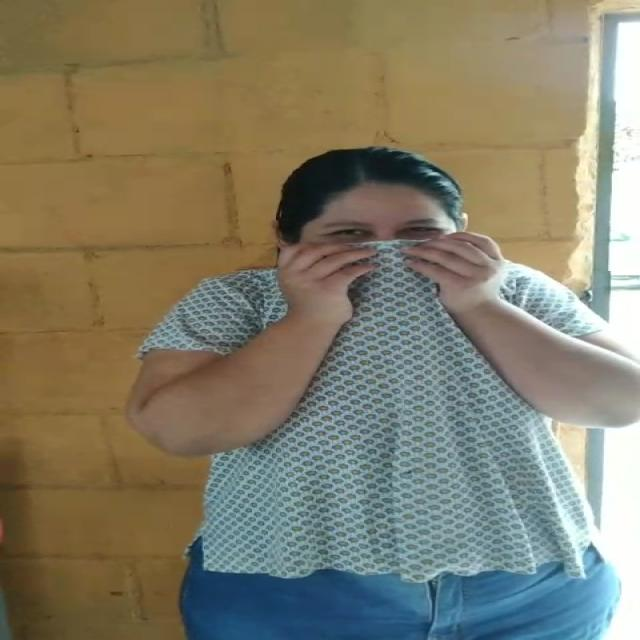8_ropa_rostro: (256, 231, 510, 345)
